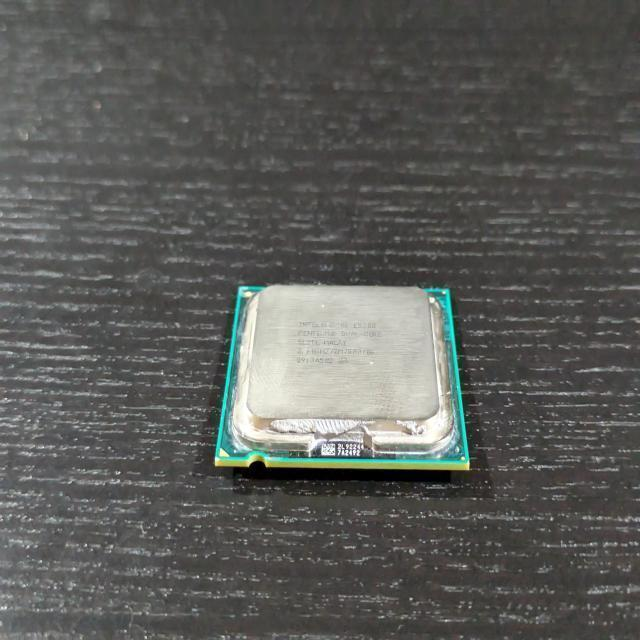CPU: (207, 284, 471, 470)
